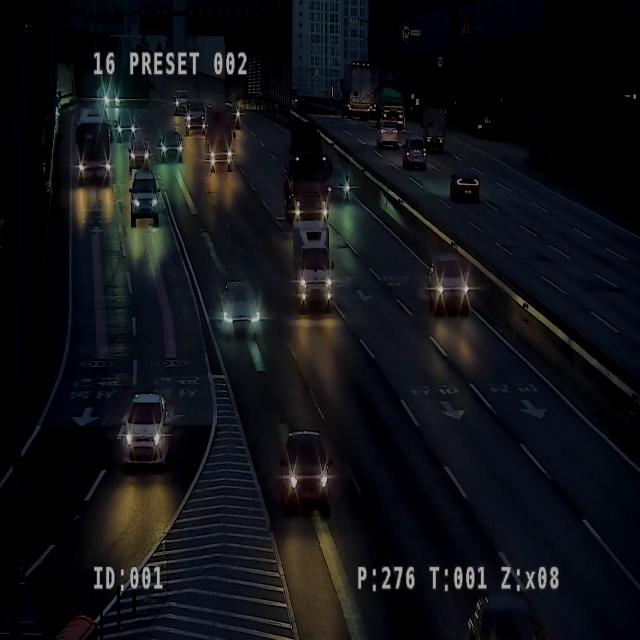Bus: (75, 106, 112, 186)
Car: (279, 432, 333, 520), (122, 394, 169, 472), (428, 255, 472, 319), (220, 281, 260, 342), (129, 171, 161, 230), (326, 161, 362, 201), (450, 170, 481, 203), (184, 96, 207, 134), (402, 138, 427, 170), (159, 132, 183, 164), (115, 111, 137, 140), (377, 121, 399, 150), (175, 85, 193, 119), (222, 100, 241, 132), (128, 142, 150, 167)
Truck: (291, 222, 335, 316), (280, 152, 333, 218), (375, 65, 407, 132), (419, 90, 450, 156), (340, 60, 372, 121), (207, 113, 233, 173)
